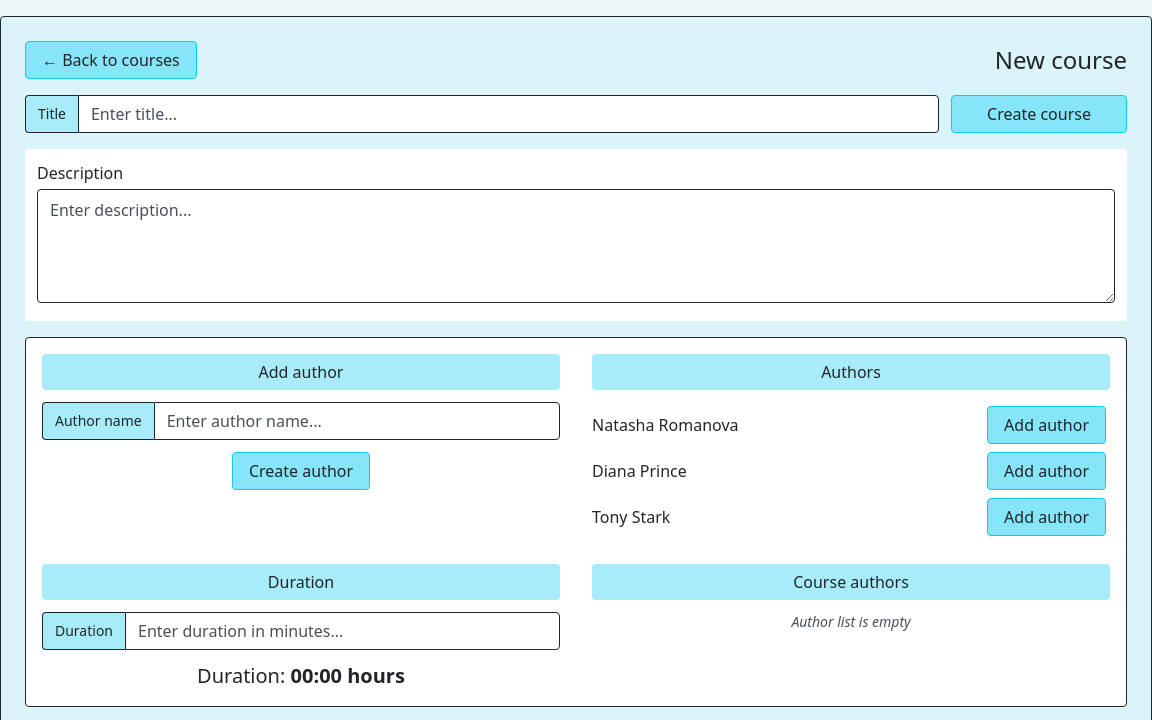
CourseForm › takes an author off the course with Delete author
Click the button with aria-label "Add author Diana Prince". click: [1047, 471]
box: [987,452,1106,490]
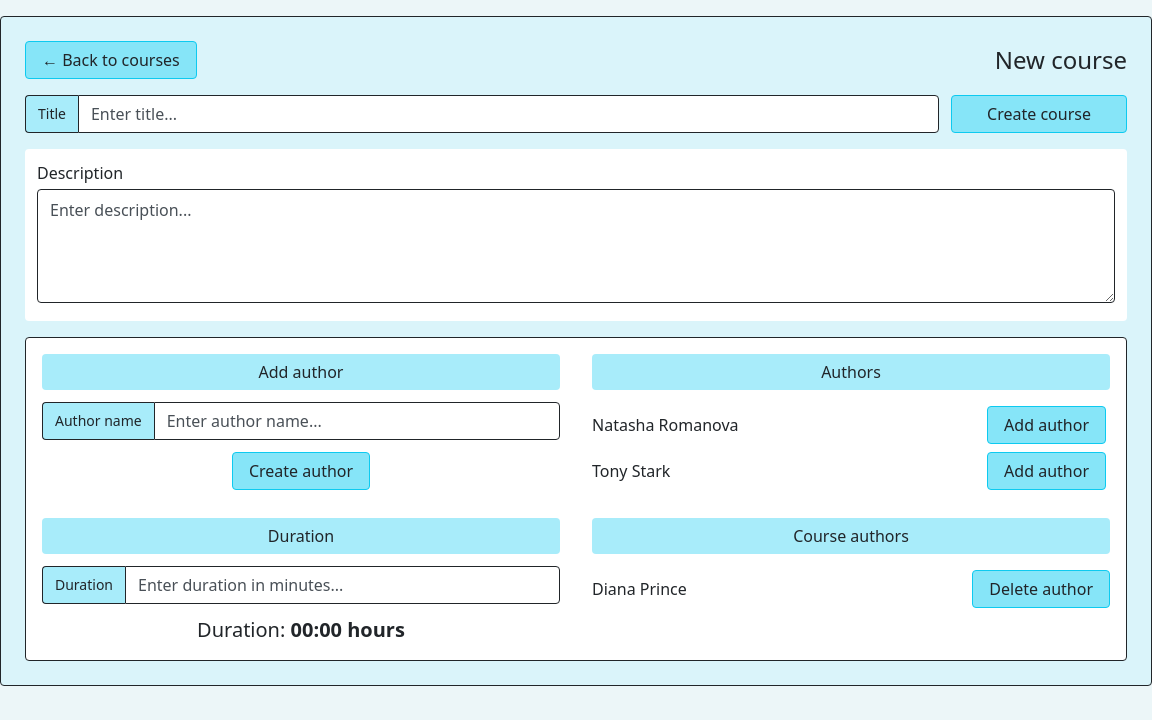
Click the button with aria-label "Delete author Diana Prince". click: [1041, 589]
box: [972,570,1110,608]
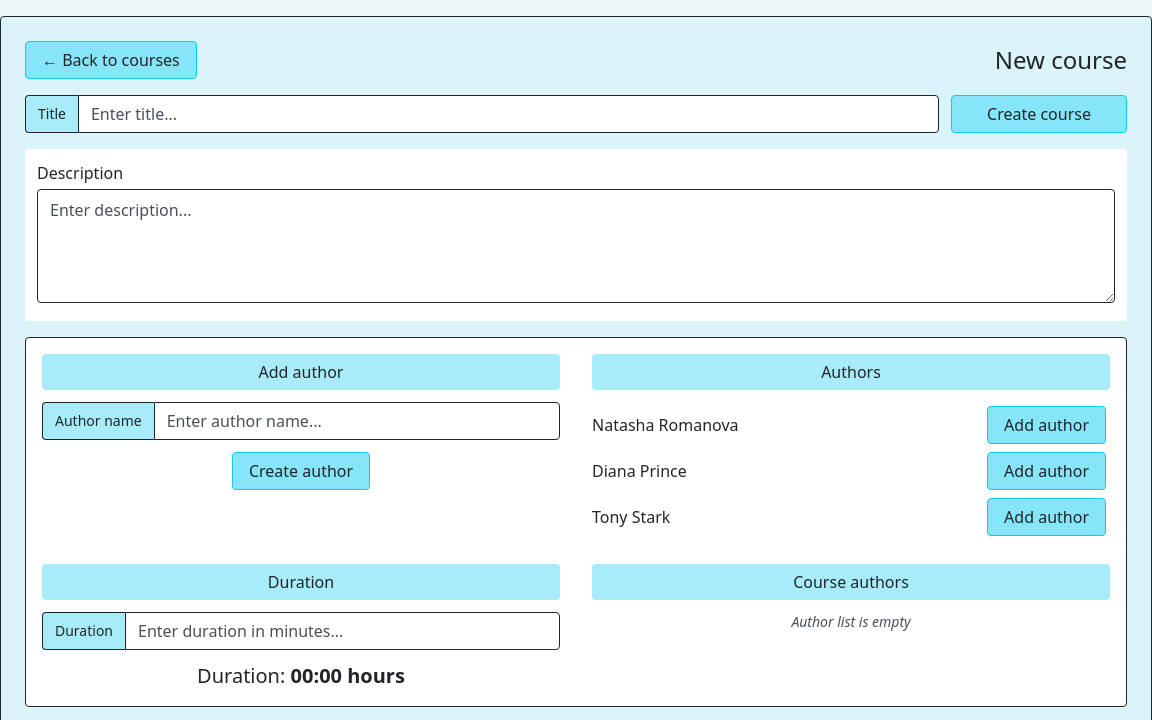
Expected: the text "Diana Prince" is shown, [592,459,687,483]
Expected: the text "Author list is empty" is shown, [791,612,911,631]
